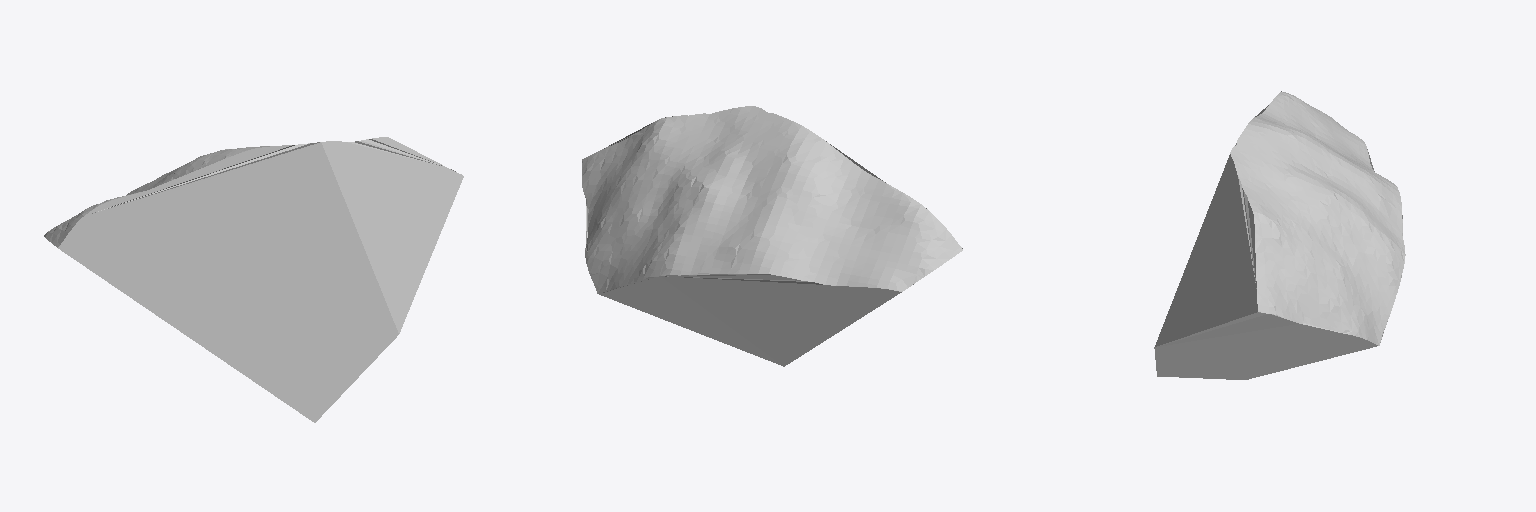
File: low_cell_068.obj
3 renders of one model, left to right at view 1: azimuth 30°, elevation 25°; view 2: azimuth 150°, elevation 25°; view 3: azimuth 270°, elevation 25°, orthographic.
Visible parts, largest first — view 1: low_cell.068_low_cell.067; view 2: low_cell.068_low_cell.067; view 3: low_cell.068_low_cell.067.
Boxes of the visible parts, box(x1,y1,x2,y2) form: low_cell.068_low_cell.067: box(44, 137, 463, 422); low_cell.068_low_cell.067: box(582, 106, 962, 366); low_cell.068_low_cell.067: box(1154, 91, 1405, 379).
Size of the model in its own units: 0.8352 by 0.5015 by 0.461.